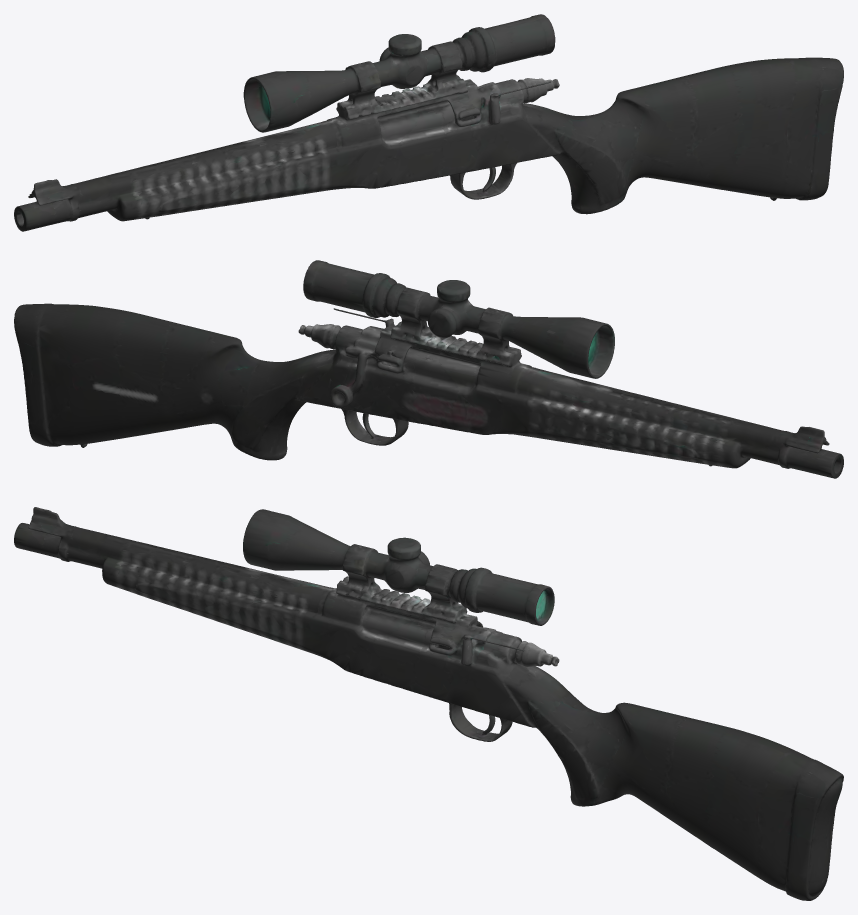
The model's file is rifle.glb.
3 views of the same model, one above another, from view 1: azimuth 30°, elevation 25°; view 2: azimuth 150°, elevation 25°; view 3: azimuth 330°, elevation 25° (orthographic).
Parts seen in each view (by area): view 1: Mesh_0; view 2: Mesh_0; view 3: Mesh_0.
Part boxes in pixels (x1=…): Mesh_0: x1=14, y1=14, x2=843, y2=231; Mesh_0: x1=14, y1=260, x2=843, y2=478; Mesh_0: x1=14, y1=507, x2=843, y2=900.
Bounding box in the file's own units: 1097281 × 327674 × 88541.
1 material, 1 textured.
